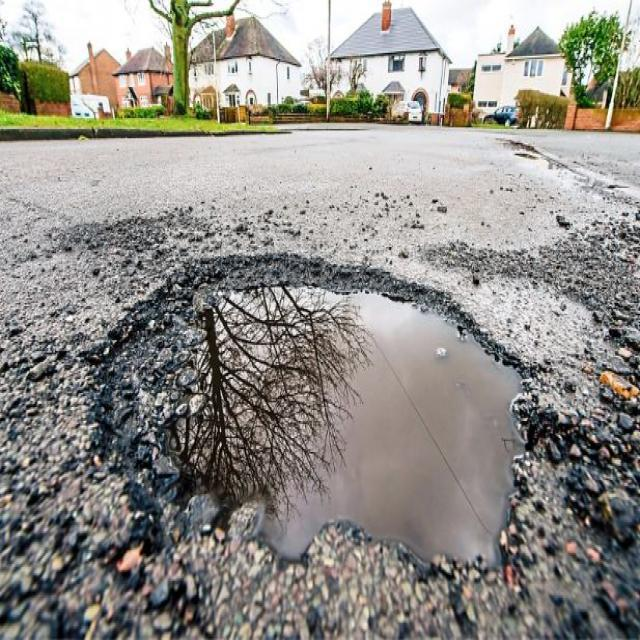Pothole: (78, 243, 542, 596)
